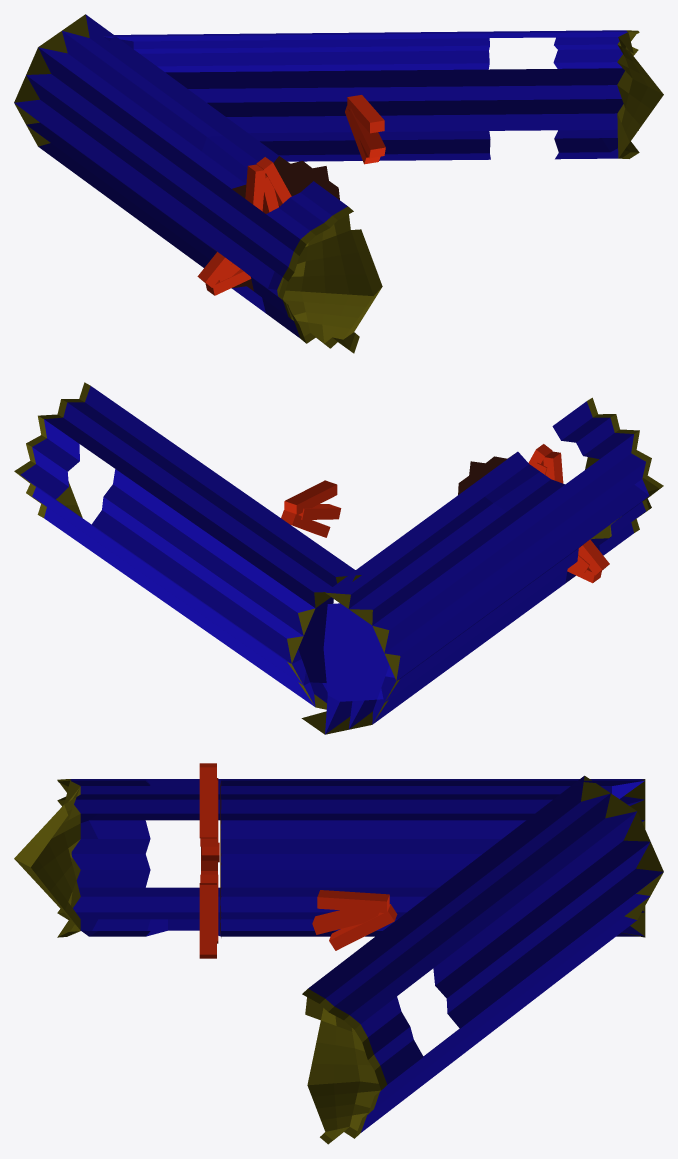
File: ballistictower2d.obj
3 views of the same model, one above another, from view 1: azimuth 30°, elevation 25°; view 2: azimuth 150°, elevation 25°; view 3: azimuth 270°, elevation 25° (orthographic). The views are drawn at different scales.
Visible parts, largest first — view 1: Cube, Cube.013, Cube.002, Cube.003, Cube.005, Cube.010, Cube.004; view 2: Cube, Cube.013, Cube.002, Cube.010, Cube.001, Cube.003; view 3: Cube, Cube.013, Cube.002, Cube.008, Cube.004, Cube.001, Cube.003.
Boxes of the visible parts, x1,y1,x2,y2 form: Cube: [14, 14, 382, 353]; Cube.013: [103, 30, 663, 161]; Cube.002: [347, 95, 384, 133]; Cube.003: [348, 108, 385, 158]; Cube.005: [245, 164, 265, 211]; Cube.010: [197, 252, 232, 287]; Cube.004: [256, 157, 291, 206]; Cube: [301, 397, 663, 734]; Cube.013: [14, 382, 361, 709]; Cube.002: [284, 480, 337, 515]; Cube.010: [578, 539, 609, 575]; Cube.001: [281, 510, 330, 537]; Cube.003: [298, 504, 341, 519]; Cube: [14, 779, 645, 937]; Cube.013: [302, 775, 663, 1144]; Cube.002: [317, 890, 389, 912]; Cube.008: [199, 883, 216, 954]; Cube.004: [199, 767, 216, 838]; Cube.001: [329, 904, 397, 950]; Cube.003: [312, 910, 378, 934].
Size of the model in its own units: 1.62 by 0.4646 by 1.61.
